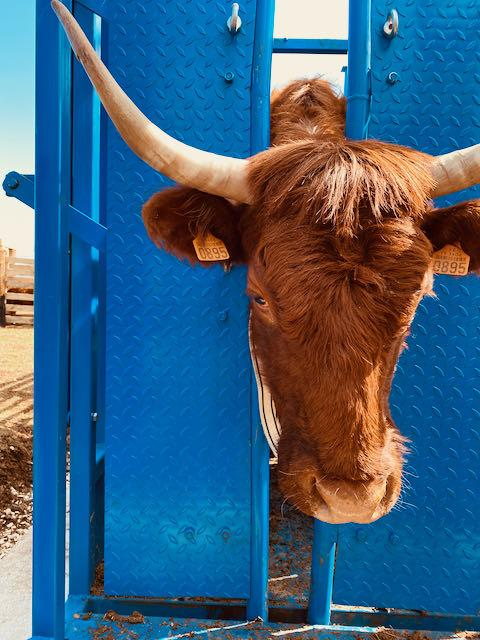muzzles: (293, 457, 401, 532)
